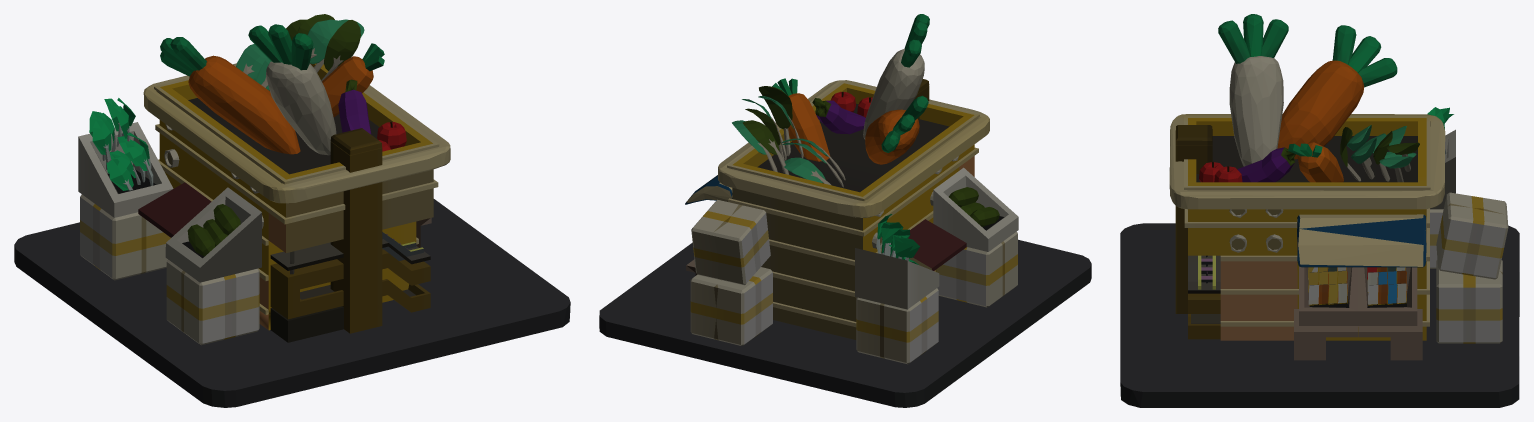
The picture shows the model from 3 angles, left to right: view 1: azimuth 30°, elevation 25°; view 2: azimuth 150°, elevation 25°; view 3: azimuth 270°, elevation 25°; orthographic projection. The views are drawn at different scales.
Visible parts, largest first — view 1: Plane.015; view 2: Plane.015; view 3: Plane.015.
Part boxes in pixels (x1,y1,x2,y2): Plane.015: [14, 14, 570, 407]; Plane.015: [599, 14, 1091, 407]; Plane.015: [1120, 14, 1519, 407].
Bounding box in the file's own units: 3 × 2.38 × 3.
Materials: 1 (1 with a texture image).
